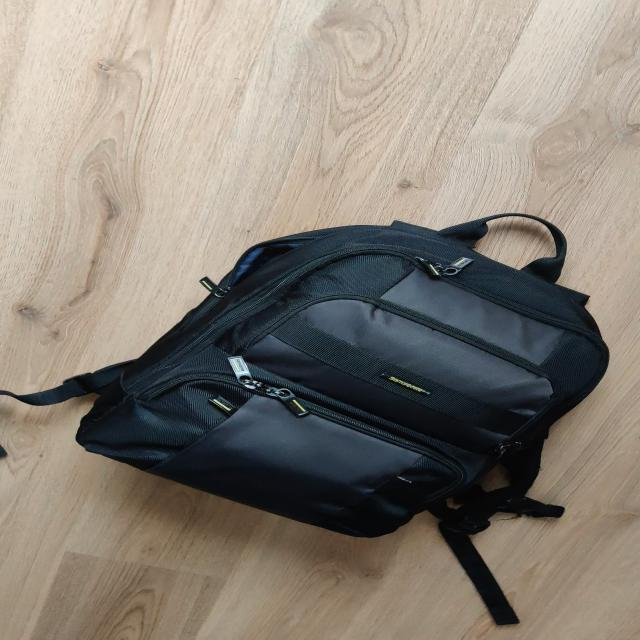backpack: (53, 206, 632, 546)
